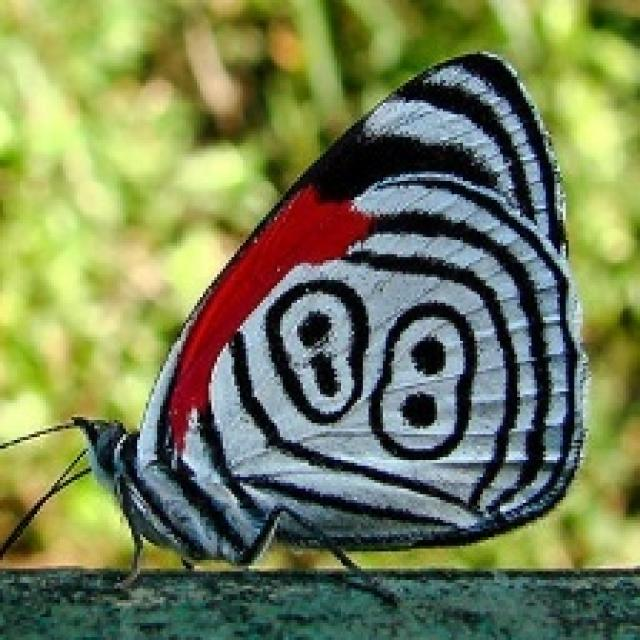butterfly: (0, 45, 591, 605)
